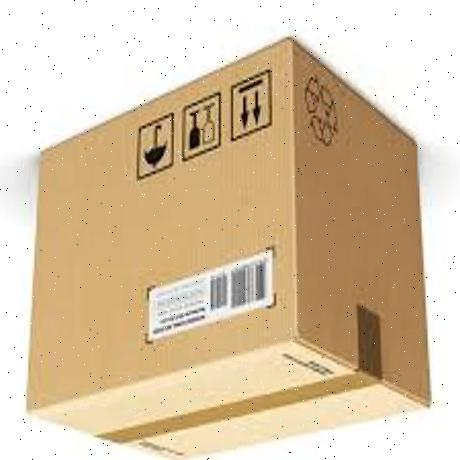Other: (26, 31, 430, 460)
